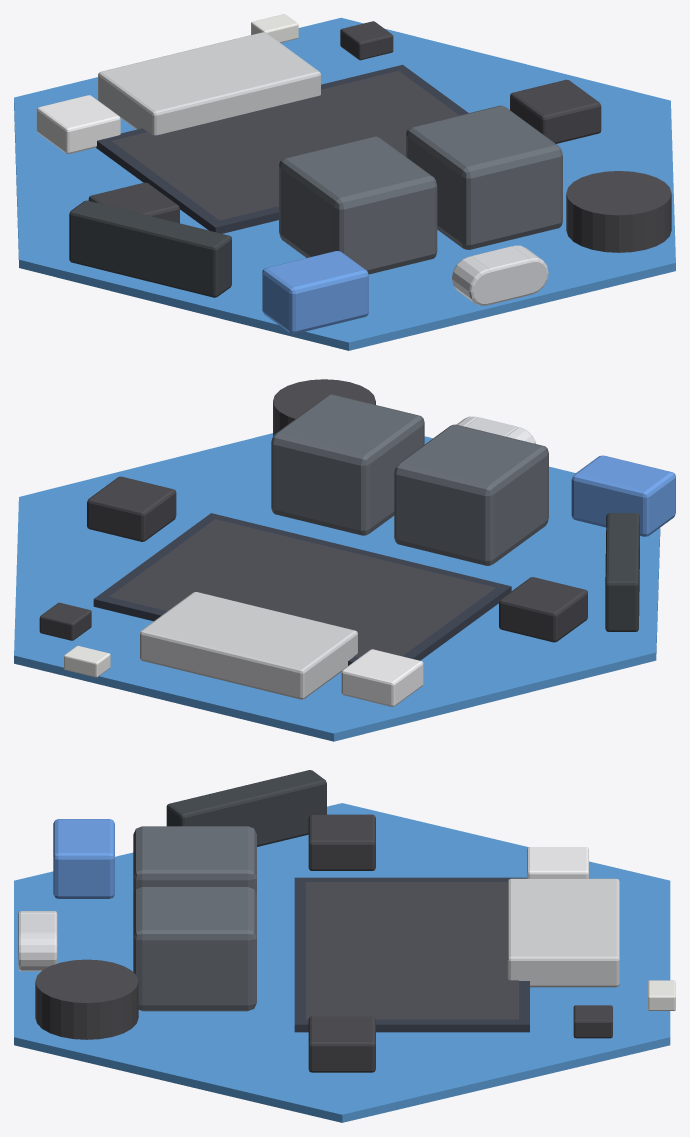
The model's file is board-source.glb.
The picture shows the model from 3 angles, top to bottom: view 1: azimuth 30°, elevation 25°; view 2: azimuth 150°, elevation 25°; view 3: azimuth 270°, elevation 25°; orthographic projection. The views are drawn at different scales.
Visible parts, largest first — view 1: ESP32_Board_PCB, OLED_Screen, RELAY1, RELAY2, ESP32_Board, GPIO_Header, BUZZER, POT_VR, USB_Port, OLED_Bezel, BTN_B, RGB_LED (+3 smaller); view 2: ESP32_Board_PCB, OLED_Screen, RELAY1, RELAY2, ESP32_Board, POT_VR, OLED_Bezel, BTN_B, BTN_A, GPIO_Header, RGB_LED, BUZZER (+3 smaller); view 3: ESP32_Board_PCB, OLED_Screen, RELAY2, ESP32_Board, RELAY1, BUZZER, GPIO_Header, OLED_Bezel, POT_VR, BTN_B, BTN_A, USB_Port (+3 smaller).
Part boxes in pixels (bbox=[...]): ESP32_Board_PCB: bbox=[14, 17, 675, 350]; OLED_Screen: bbox=[111, 71, 459, 220]; RELAY1: bbox=[279, 136, 437, 274]; RELAY2: bbox=[406, 105, 562, 249]; ESP32_Board: bbox=[98, 32, 320, 135]; GPIO_Header: bbox=[69, 200, 231, 297]; BUZZER: bbox=[566, 171, 671, 252]; POT_VR: bbox=[262, 251, 368, 333]; USB_Port: bbox=[452, 245, 548, 305]; OLED_Bezel: bbox=[96, 64, 468, 233]; BTN_B: bbox=[510, 79, 601, 143]; RGB_LED: bbox=[36, 95, 120, 153]; ESP32_Board_PCB: bbox=[14, 433, 660, 741]; OLED_Screen: bbox=[109, 519, 495, 657]; RELAY1: bbox=[394, 424, 548, 565]; RELAY2: bbox=[271, 394, 424, 535]; ESP32_Board: bbox=[140, 592, 357, 699]; POT_VR: bbox=[571, 455, 675, 536]; OLED_Bezel: bbox=[93, 513, 511, 665]; BTN_B: bbox=[87, 476, 176, 541]; BTN_A: bbox=[499, 577, 587, 642]; GPIO_Header: bbox=[605, 513, 639, 631]; RGB_LED: bbox=[341, 649, 423, 706]; BUZZER: bbox=[273, 379, 375, 436]; ESP32_Board_PCB: bbox=[14, 803, 670, 1122]; OLED_Screen: bbox=[305, 882, 518, 1019]; RELAY2: bbox=[133, 887, 256, 1011]; ESP32_Board: bbox=[507, 878, 619, 987]; RELAY1: bbox=[133, 826, 256, 894]; BUZZER: bbox=[35, 959, 138, 1039]; GPIO_Header: bbox=[166, 770, 326, 846]; OLED_Bezel: bbox=[294, 877, 529, 1032]; POT_VR: bbox=[53, 819, 114, 898]; BTN_B: bbox=[308, 1016, 375, 1072]; BTN_A: bbox=[308, 814, 375, 870]; USB_Port: bbox=[18, 911, 57, 971].
Size of the model in its own units: 0.1315 by 0.0176 by 0.118.
